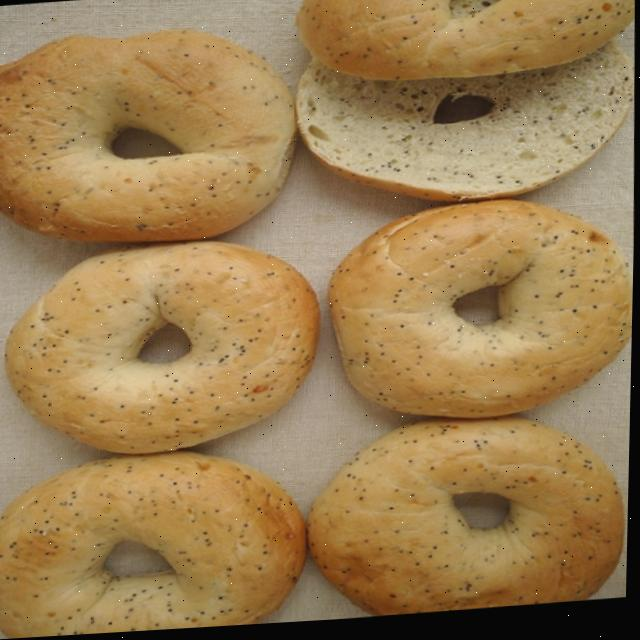面包点心: (0, 0, 630, 619)
